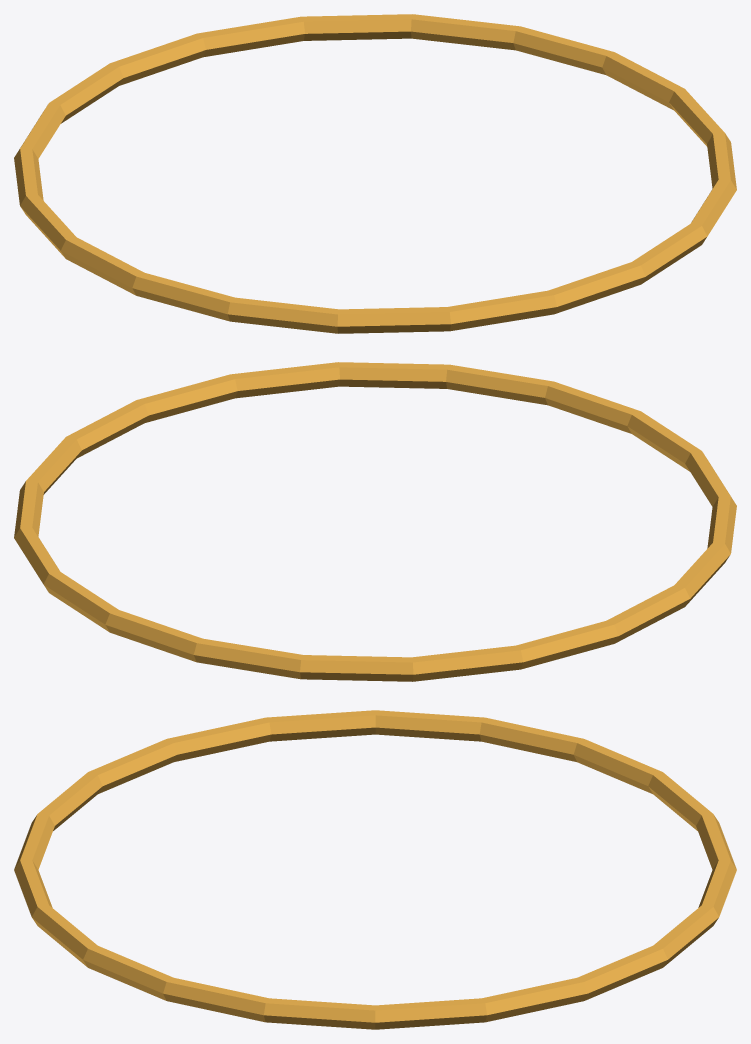
Rendered from FX_Selection.fbx.
3 views of the same model, one above another, from view 1: azimuth 30°, elevation 25°; view 2: azimuth 150°, elevation 25°; view 3: azimuth 270°, elevation 25° (orthographic).
Visible parts, largest first — view 1: Selection halo; view 2: Selection halo; view 3: Selection halo.
Part boxes in pixels (x1,y1,x2,y2): Selection halo: (14,14,736,333); Selection halo: (14,362,736,681); Selection halo: (14,710,736,1029).
Bounding box in the file's own units: 2.07 × 0.0606 × 2.07.
Materials: 1 (1 with a texture image).
